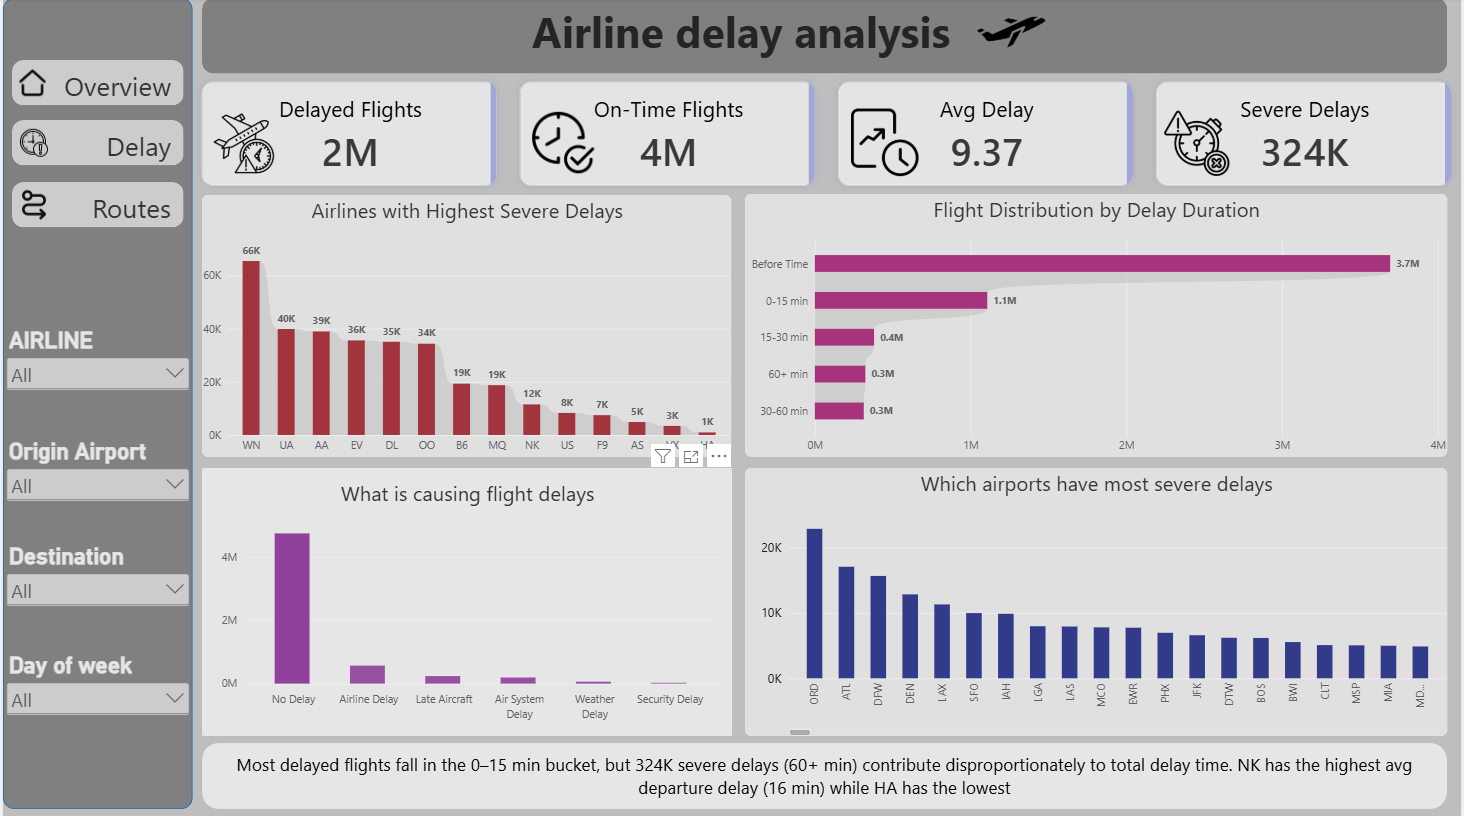

What the dashboard file says about the page in this screenshot:
{"tool":"powerbi","page":{"name":"Delay","canvas":[1920,1080],"ordinal":1},"visuals":[{"type":"cardVisual","fields":{"Data":["flights.Delayed Flights","flights.On-Time Flights","flights.Avg Delay","flights.Severe Delays"]},"box":[250.4,99.2,1668.2,160.4],"z":0},{"type":"image","box":[272.8,141.5,89.2,101],"z":1000},{"type":"image","box":[697,140.9,81.7,99.2],"z":2000},{"type":"image","box":[1116.6,139.4,89,101],"z":3000},{"type":"image","box":[1527.5,141.5,89,100.7],"z":4000},{"type":"columnChart","fields":{"Y":["flights.Severe Delays"],"Category":["flights.ORIGIN_AIRPORT"]},"box":[977.3,619,924.6,353],"z":5000},{"type":"columnChart","fields":{"Category":["flights.AIRLINE"],"Y":["flights.Severe Delays"]},"box":[262.1,259.5,696.7,345.1],"z":6000},{"type":"barChart","fields":{"Category":["flights.Delay Bucket"],"Y":["flights.Total Flights"]},"box":[977.3,258.1,924.6,346.4],"z":7000},{"type":"columnChart","fields":{"Category":["flights.Delay Type"],"Y":["CountNonNull(flights.Delay Bucket)"]},"box":[262.1,619,698,353],"z":8000},{"type":"shape","box":[0,0,249.7,1068.2],"z":9000},{"type":"shape","box":[262.3,0,1640.3,99.6],"z":10000},{"type":"image","box":[1257.9,0,140.6,90.1],"z":11000},{"type":"textbox","box":[696.9,4.7,561,90.1],"z":12000},{"type":"slicer","fields":{"Values":["flights.AIRLINE"]},"box":[0,433,249.7,101.1],"z":13000},{"type":"slicer","fields":{"Values":["flights.ORIGIN_AIRPORT"]},"box":[0,580,249.7,101.1],"z":14000},{"type":"slicer","fields":{"Values":["flights.DESTINATION_AIRPORT"]},"box":[0,717.4,249.7,101.1],"z":15000},{"type":"actionButton","box":[11.8,81.2,226.1,59.8],"z":16000},{"type":"slicer","fields":{"Values":["flights.DAY_OF_WEEK"]},"box":[0,861.2,249.7,101.1],"z":17000},{"type":"actionButton","box":[11.8,160.7,226.1,59.8],"z":18000},{"type":"actionButton","box":[11.8,241.9,226.1,59.8],"z":19000},{"type":"shape","box":[262.1,981.2,1639.8,86.9],"z":20000}]}

Visuals, with their boxes on the page's 1920x1080 design canvas (x1, y1, x2, y2). These are canvas units, not pixel positions in the 1464x816 screenshot, which may show the page scaled, cropped or inside an application window:
cardVisual - flights.Delayed Flights x flights.On-Time Flights: bbox=(250, 99, 1919, 260)
image: bbox=(273, 142, 362, 242)
image: bbox=(697, 141, 779, 240)
image: bbox=(1117, 139, 1206, 240)
image: bbox=(1528, 142, 1616, 242)
columnChart - flights.Severe Delays x flights.ORIGIN_AIRPORT: bbox=(977, 619, 1902, 972)
columnChart - flights.AIRLINE x flights.Severe Delays: bbox=(262, 260, 959, 605)
barChart - flights.Delay Bucket x flights.Total Flights: bbox=(977, 258, 1902, 604)
columnChart - flights.Delay Type x CountNonNull(flights.Delay Bucket): bbox=(262, 619, 960, 972)
shape: bbox=(0, 0, 250, 1068)
shape: bbox=(262, 0, 1903, 100)
image: bbox=(1258, 0, 1398, 90)
textbox: bbox=(697, 5, 1258, 95)
slicer - flights.AIRLINE: bbox=(0, 433, 250, 534)
slicer - flights.ORIGIN_AIRPORT: bbox=(0, 580, 250, 681)
slicer - flights.DESTINATION_AIRPORT: bbox=(0, 717, 250, 818)
actionButton: bbox=(12, 81, 238, 141)
slicer - flights.DAY_OF_WEEK: bbox=(0, 861, 250, 962)
actionButton: bbox=(12, 161, 238, 220)
actionButton: bbox=(12, 242, 238, 302)
shape: bbox=(262, 981, 1902, 1068)
